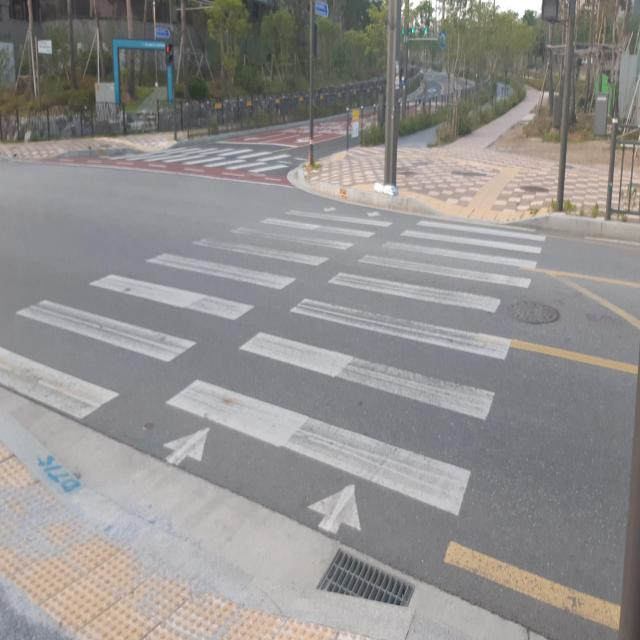빨간불: (164, 40, 172, 70)
횡단보도: (0, 204, 546, 538), (117, 150, 290, 183)
